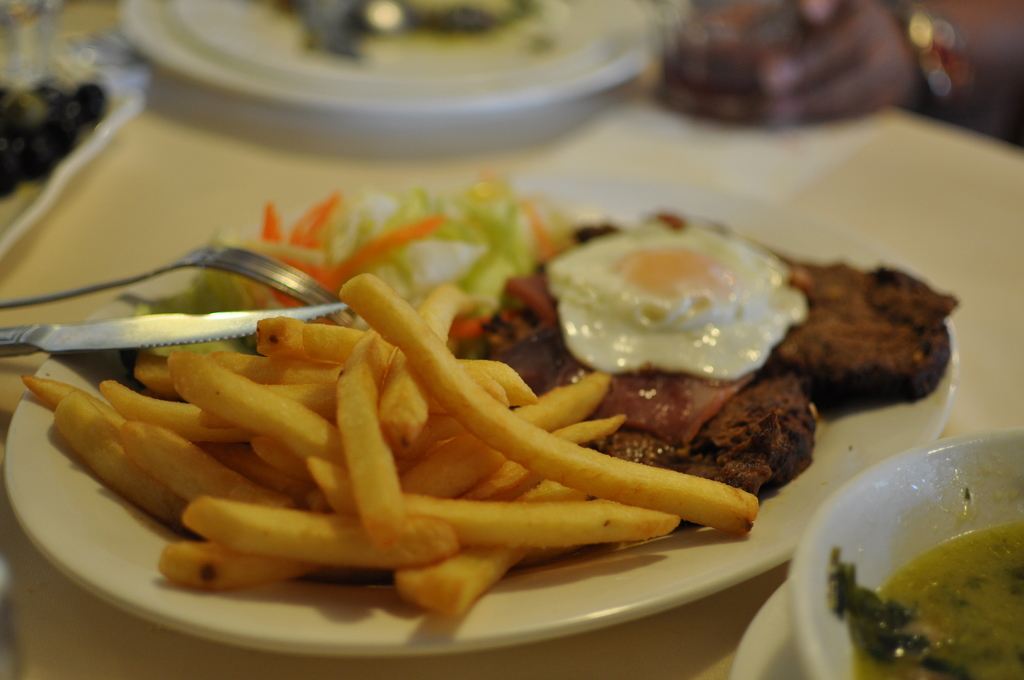French fries: (21, 273, 758, 619)
